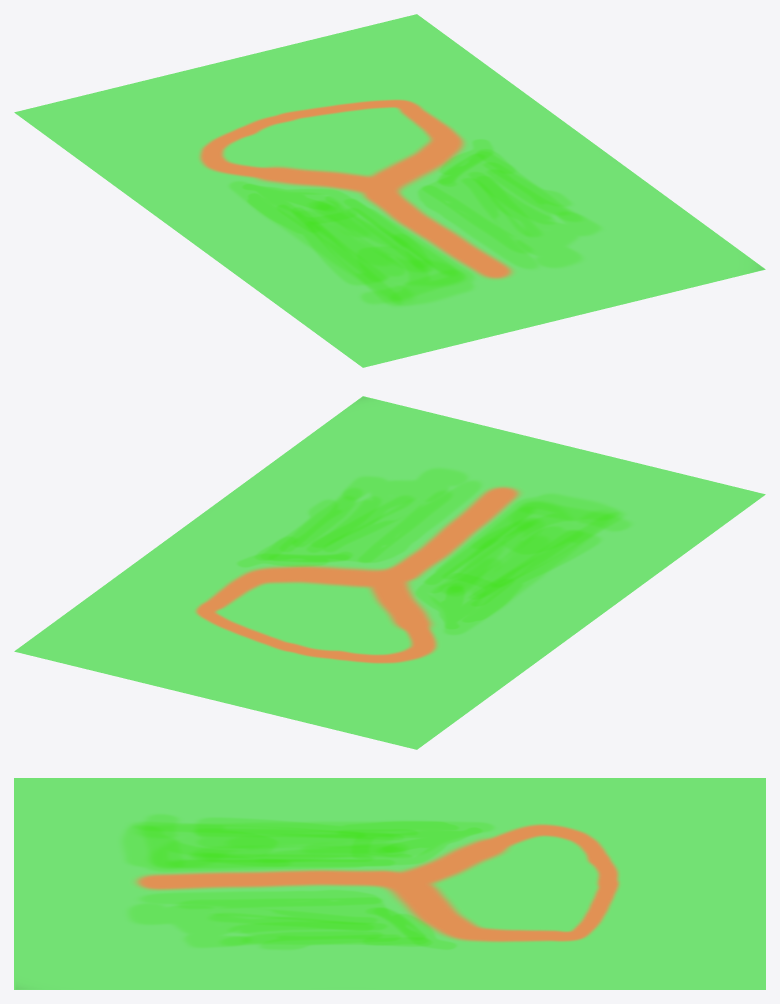
The model's file is GroundPlane_Blender.fbx.
3 views of the same model, one above another, from view 1: azimuth 30°, elevation 25°; view 2: azimuth 150°, elevation 25°; view 3: azimuth 270°, elevation 25° (orthographic). The views are drawn at different scales.
Parts seen in each view (by area): view 1: Plane; view 2: Plane; view 3: Plane.
Part boxes in pixels (box(x1,y1,x2,y2)): Plane: box(14, 14, 765, 367); Plane: box(14, 396, 765, 749); Plane: box(14, 778, 765, 989).
Bounding box in the file's own units: 2000 × 0.000489 × 3000.
1 material, 1 textured.
